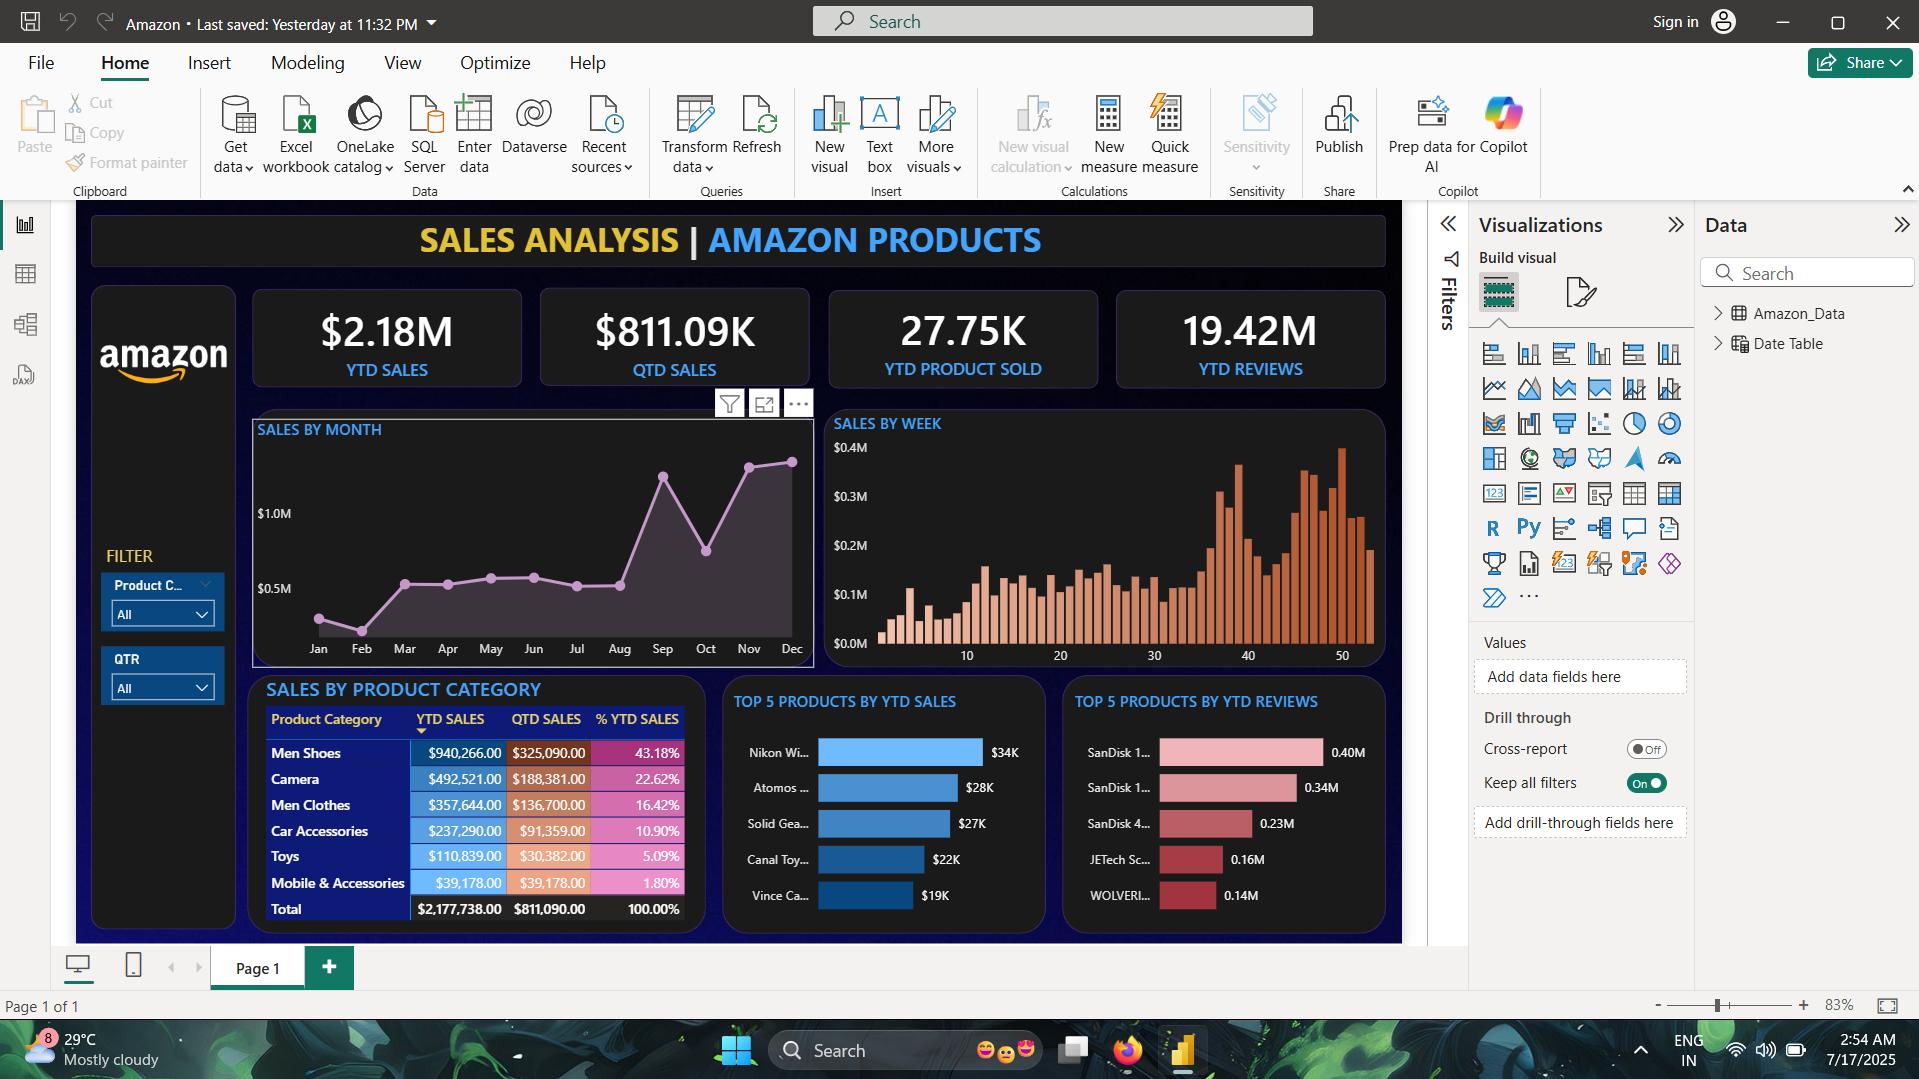

Layout of this report page (visuals, bound fields, positions):
{"tool":"powerbi","page":{"name":"Page 1","canvas":[1280,720],"ordinal":0},"visuals":[{"type":"shape","box":[14.5,14.5,1249.9,50.7],"z":0},{"type":"textbox","box":[326.9,10.9,624.9,59.1],"z":1000},{"type":"shape","box":[14.5,82,139.9,622],"z":2000},{"type":"shape","box":[170.1,201.5,542.9,249.7],"z":3000},{"type":"shape","box":[170.1,85.7,260.6,95.3],"z":4000},{"type":"card","fields":{"Values":["Amazon_Data.YTD SALES"]},"box":[170.1,88.1,260.6,95.3],"z":5000},{"type":"shape","box":[448,84.5,260.6,95.3],"z":6000},{"type":"card","fields":{"Values":["Amazon_Data.QTD SALES"]},"box":[447.6,88.1,260.6,95.3],"z":7000},{"type":"shape","box":[726.3,86.9,260.6,95.3],"z":8000},{"type":"shape","box":[1003.8,86.9,260.6,95.3],"z":9000},{"type":"card","fields":{"Values":["Amazon_Data.YTD PRODUCT SOLD"]},"box":[726.3,86.9,260.6,95.3],"z":10000},{"type":"card","fields":{"Values":["Amazon_Data.YTD REVIEWS"]},"box":[1003.8,86.9,260.6,95.3],"z":11000},{"type":"areaChart","title":"   SALES BY MONTH","fields":{"Category":["Date Table.Month Name"],"Y":["Amazon_Data.Price(Dollar)"]},"box":[170.1,211.1,542.9,240.1],"z":12000},{"type":"shape","box":[721.5,201.5,542.9,249.7],"z":13000},{"type":"columnChart","title":"SALES BY WEEK","fields":{"Category":["Date Table.WEEK"],"Y":["Amazon_Data.Price(Dollar)"]},"box":[726.3,205.1,553.8,253.4],"z":14000},{"type":"shape","box":[165.3,458.4,442.8,249.7],"z":15000},{"type":"pivotTable","title":"SALES BY PRODUCT CATEGORY ","fields":{"Values":["Amazon_Data.YTD SALES1","Amazon_Data.QTD SALES","Amazon_Data.YTD SALES"],"Rows":["Amazon_Data.Product Category"]},"box":[178.6,458.4,437.9,249.7],"z":16000},{"type":"shape","box":[623.7,458.4,312.5,249.7],"z":17000},{"type":"shape","box":[951.9,458.4,312.5,249.7],"z":18000},{"type":"clusteredBarChart","title":"TOP 5 PRODUCTS BY YTD SALES","fields":{"Category":["Amazon_Data.Product Description"],"Y":["Amazon_Data.YTD SALES"]},"box":[629.8,472.9,296.8,231.6],"z":19000},{"type":"clusteredBarChart","title":"TOP 5 PRODUCTS BY YTD REVIEWS","fields":{"Category":["Amazon_Data.Product Description"],"Y":["Amazon_Data.YTD REVIEWS"]},"box":[959.1,472.9,296.8,231.6],"z":20000},{"type":"slicer","fields":{"Values":["Amazon_Data.Product Category"]},"box":[24.1,359.5,119.4,56.7],"z":21000},{"type":"slicer","fields":{"Values":["Date Table.QTR"]},"box":[24.1,430.7,119.4,56.7],"z":22000},{"type":"image","box":[14.5,88.1,139.9,141.2],"z":23000},{"type":"textbox","box":[24.1,326.9,65.1,31.4],"z":24000}]}

Visuals, with their boxes on the page's 1280x720 design canvas (x1, y1, x2, y2). These are canvas units, not pixel positions in the 1919x1079 screenshot, which may show the page scaled, cropped or inside an application window:
shape: (14,14,1264,65)
textbox: (327,11,952,70)
shape: (14,82,154,704)
shape: (170,202,713,451)
shape: (170,86,431,181)
card - Amazon_Data.YTD SALES: (170,88,431,183)
shape: (448,84,709,180)
card - Amazon_Data.QTD SALES: (448,88,708,183)
shape: (726,87,987,182)
shape: (1004,87,1264,182)
card - Amazon_Data.YTD PRODUCT SOLD: (726,87,987,182)
card - Amazon_Data.YTD REVIEWS: (1004,87,1264,182)
"   SALES BY MONTH" areaChart: (170,211,713,451)
shape: (722,202,1264,451)
"SALES BY WEEK" columnChart: (726,205,1280,458)
shape: (165,458,608,708)
"SALES BY PRODUCT CATEGORY " pivotTable: (179,458,616,708)
shape: (624,458,936,708)
shape: (952,458,1264,708)
"TOP 5 PRODUCTS BY YTD SALES" clusteredBarChart: (630,473,927,704)
"TOP 5 PRODUCTS BY YTD REVIEWS" clusteredBarChart: (959,473,1256,704)
slicer - Amazon_Data.Product Category: (24,360,144,416)
slicer - Date Table.QTR: (24,431,144,487)
image: (14,88,154,229)
textbox: (24,327,89,358)
